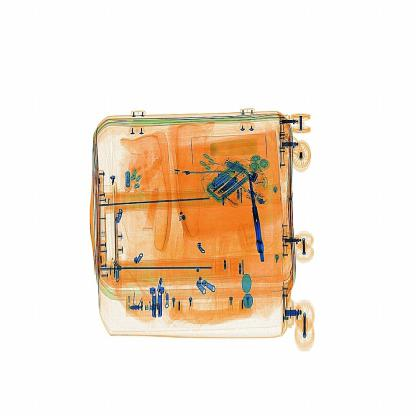gun: (240, 166, 274, 266)
